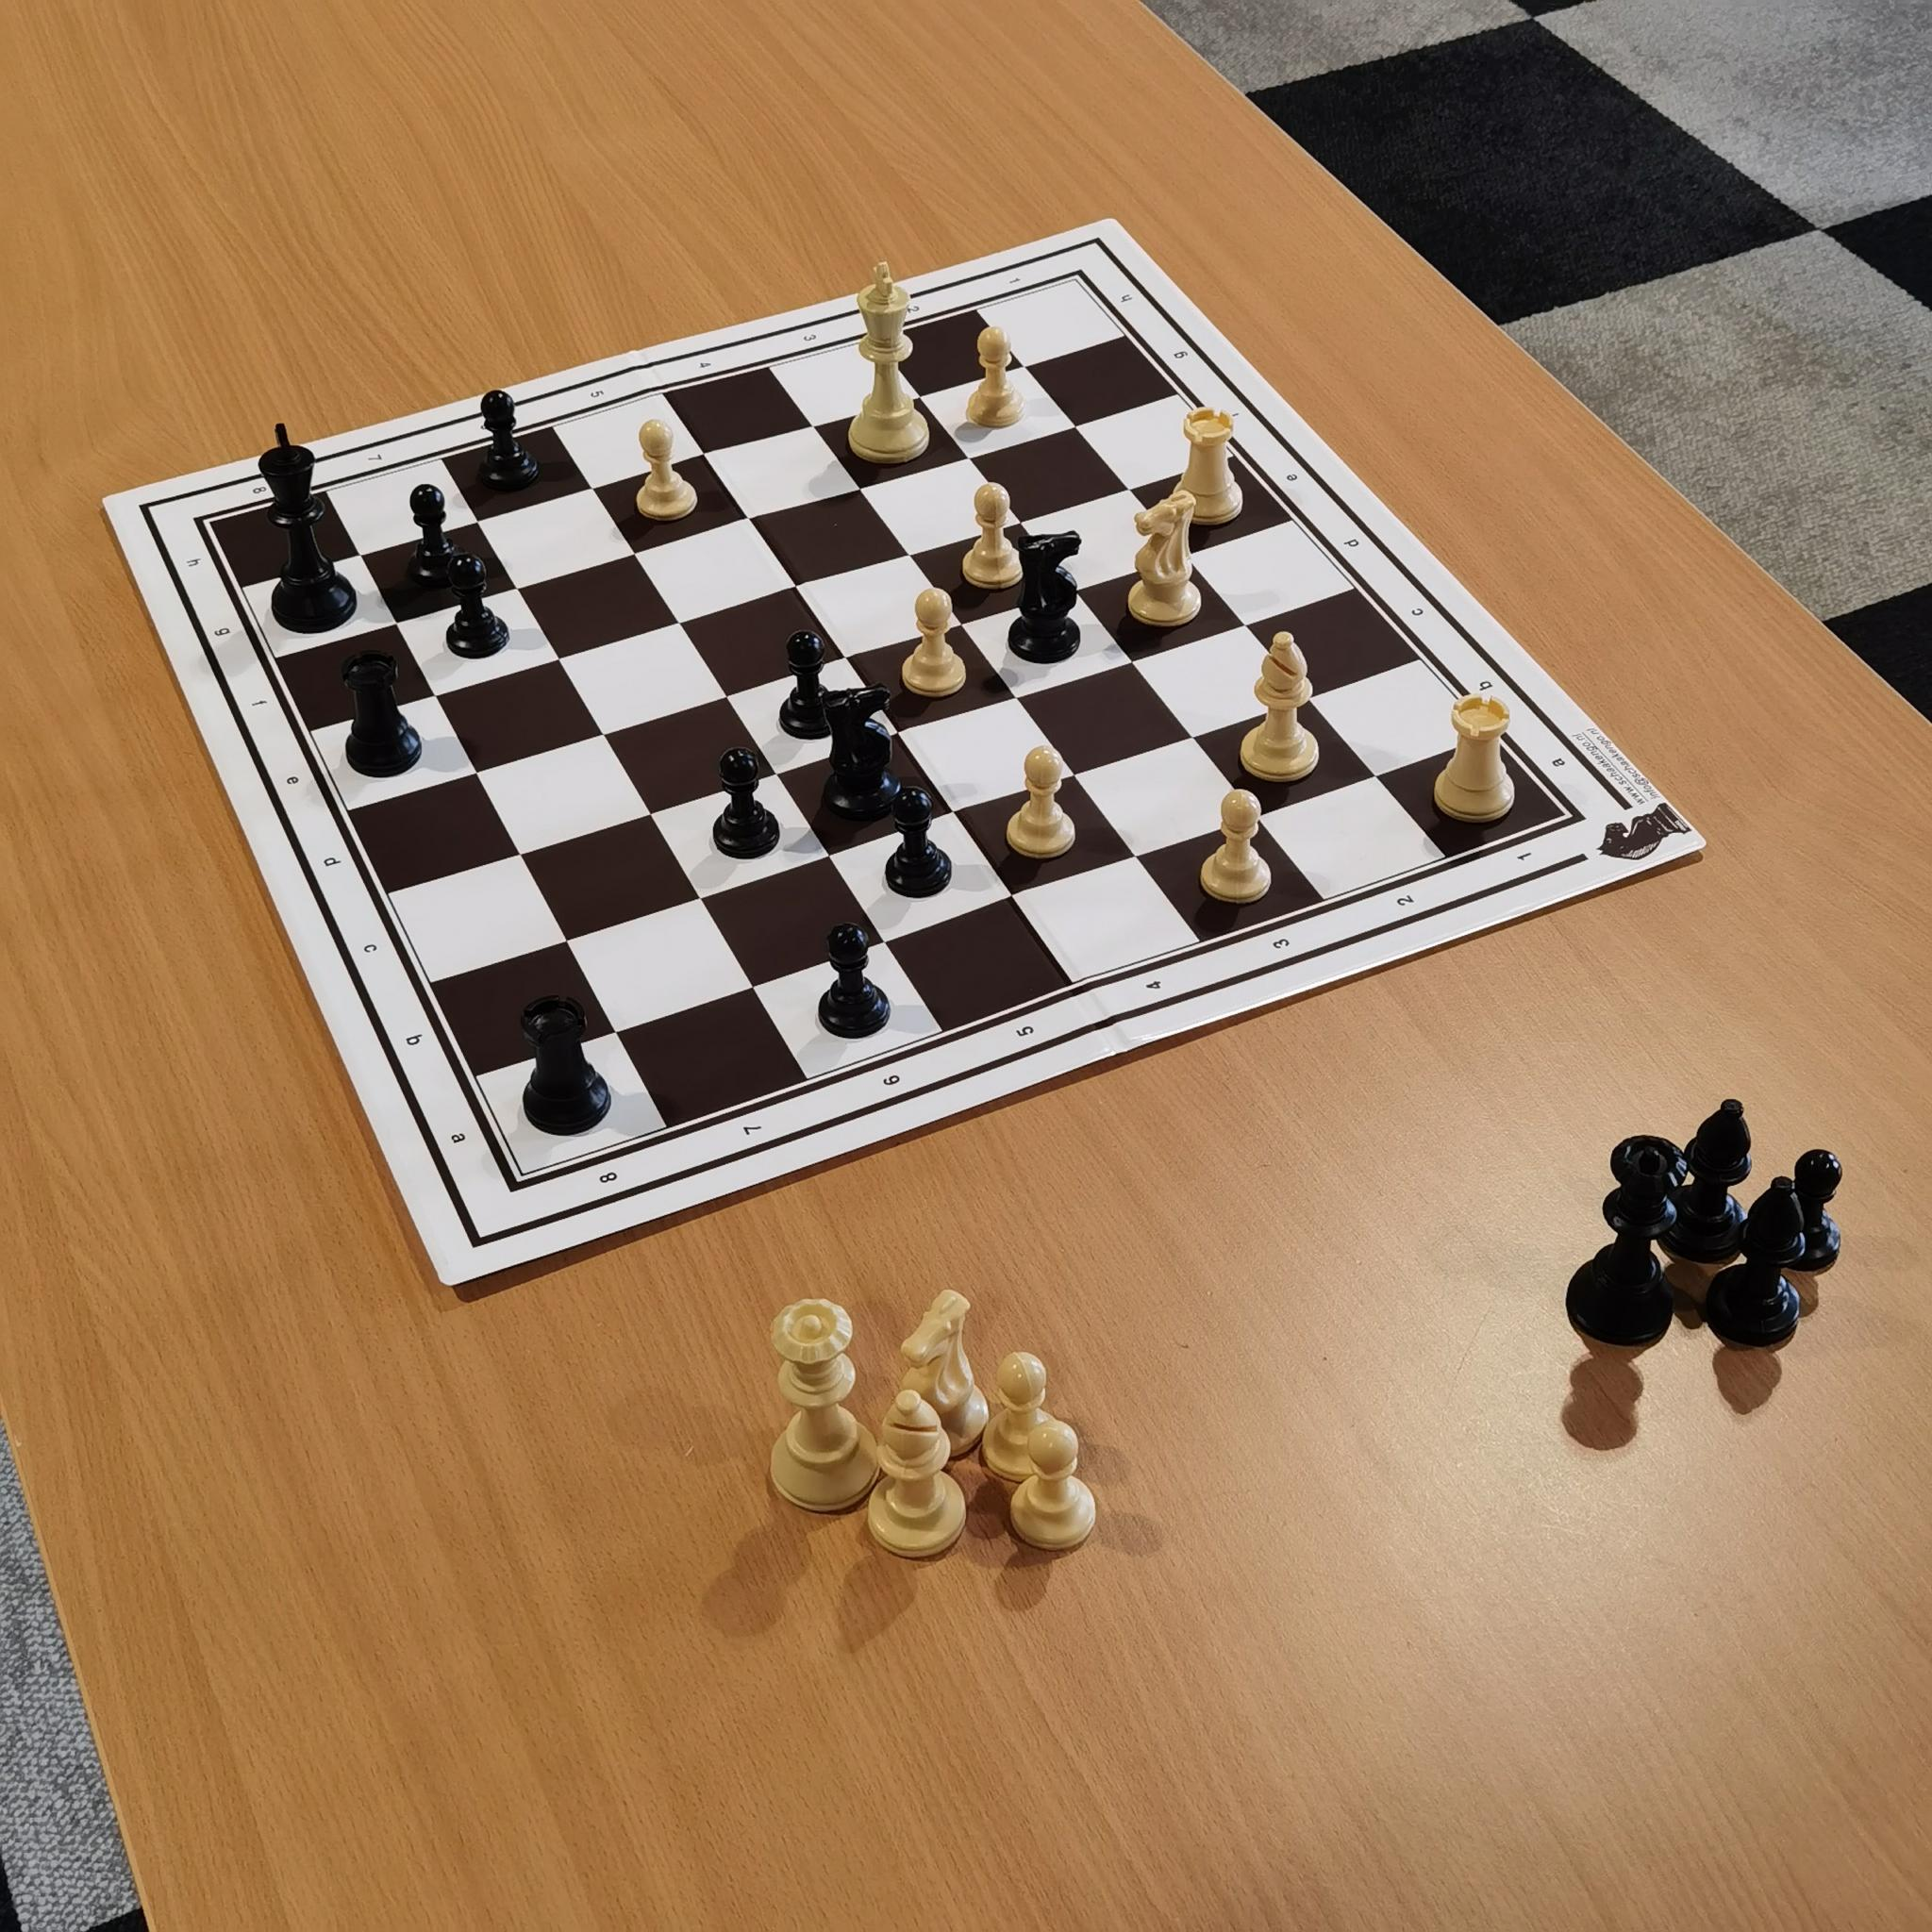corners: (1557, 803, 1603, 851), (495, 1166, 541, 1208), (184, 510, 232, 545), (1060, 267, 1104, 304)
eight: (237, 469, 281, 510), (596, 1155, 632, 1196)
one: (1499, 835, 1546, 878), (996, 255, 1039, 303)
